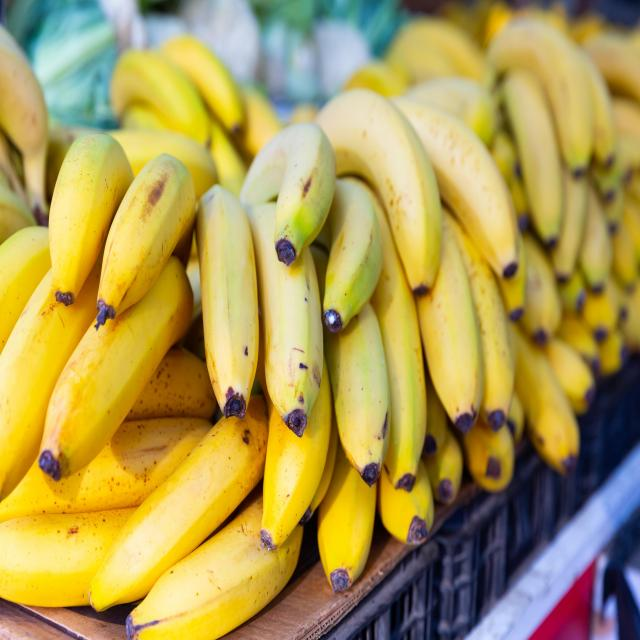banana: (86, 387, 279, 615), (40, 250, 196, 488), (0, 236, 110, 531), (122, 477, 309, 640), (304, 84, 442, 298), (337, 175, 429, 490), (387, 92, 522, 278), (94, 151, 200, 333), (246, 195, 325, 426), (40, 125, 138, 307), (316, 259, 392, 488), (410, 213, 486, 439), (195, 180, 262, 428)
